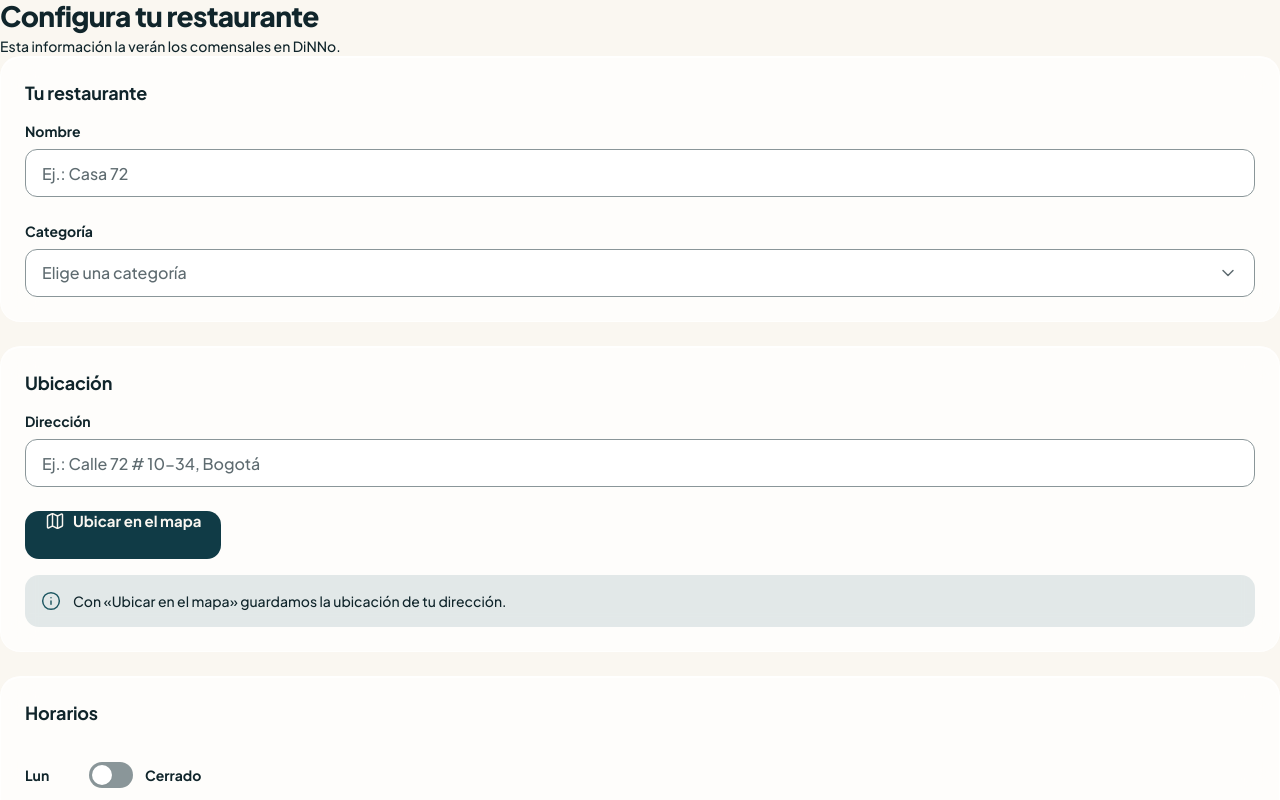
Scenario: OnboardingPage · registro del restaurante › saves: sends exactly the contract, shows "Guardando…", toasts and goes to the tables
Type "  Casa 72 " into the field labelled "Nombre" at [640, 173], box [25,149,1255,197]
Click the dropdown labelled "categoría" at [114, 272], box [25,249,1255,297]
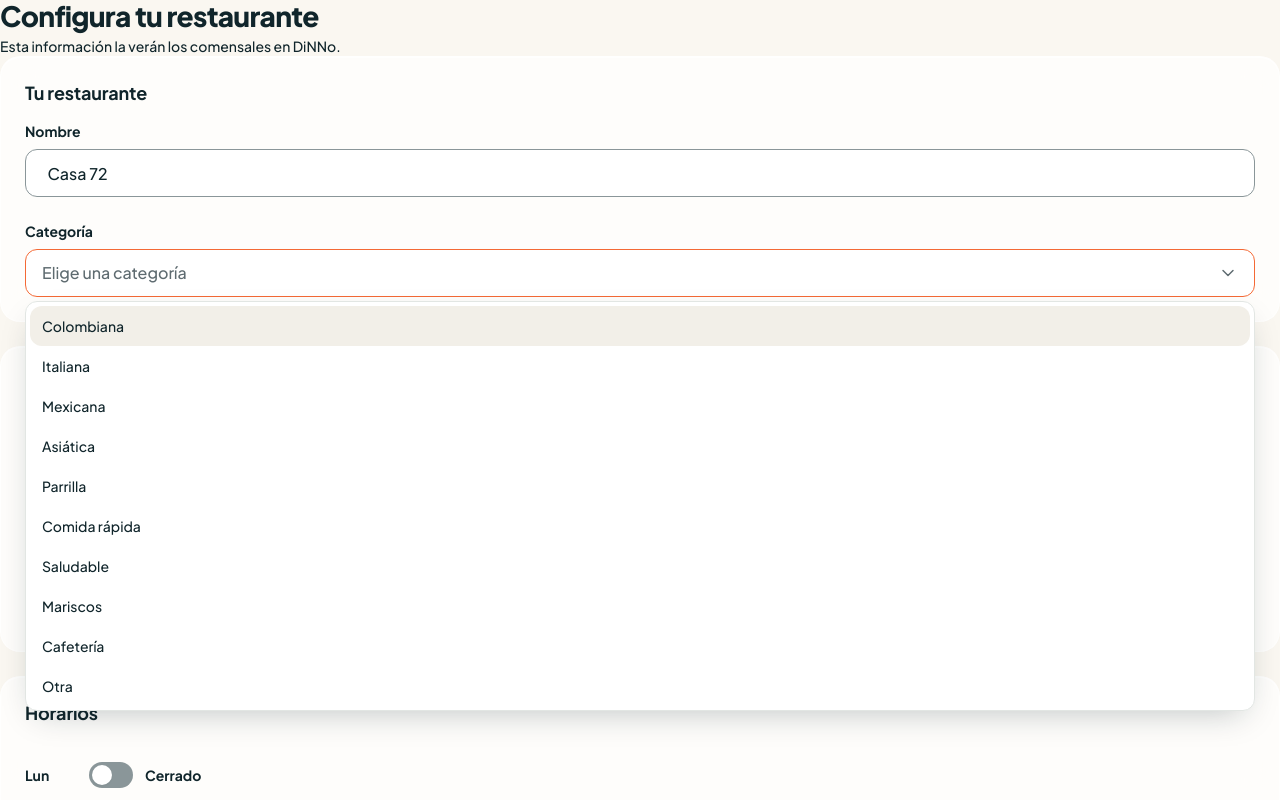
Click the option "Colombiana" at [83, 326], box [30,306,1250,346]
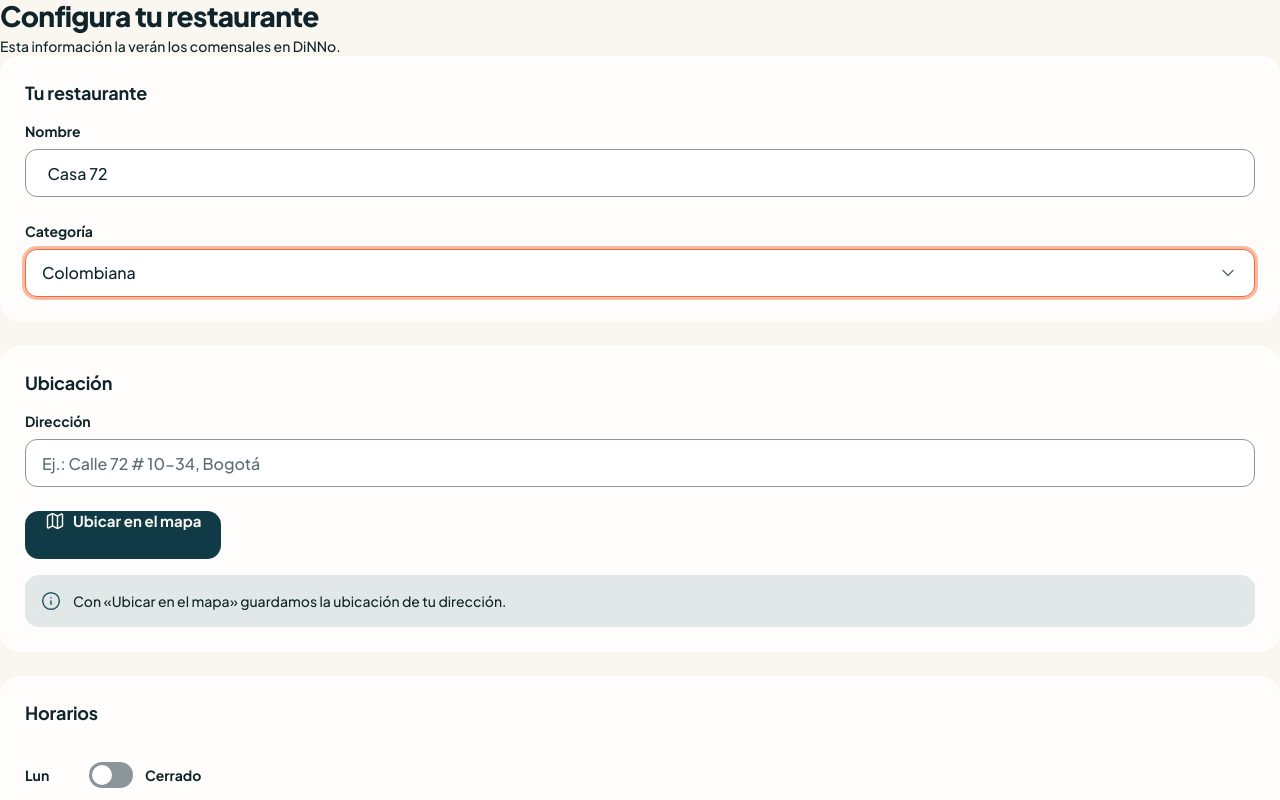
Type "Calle 72 # 10-34, Bogotá" into the field labelled "Dirección" at [640, 463], box [25,439,1255,487]
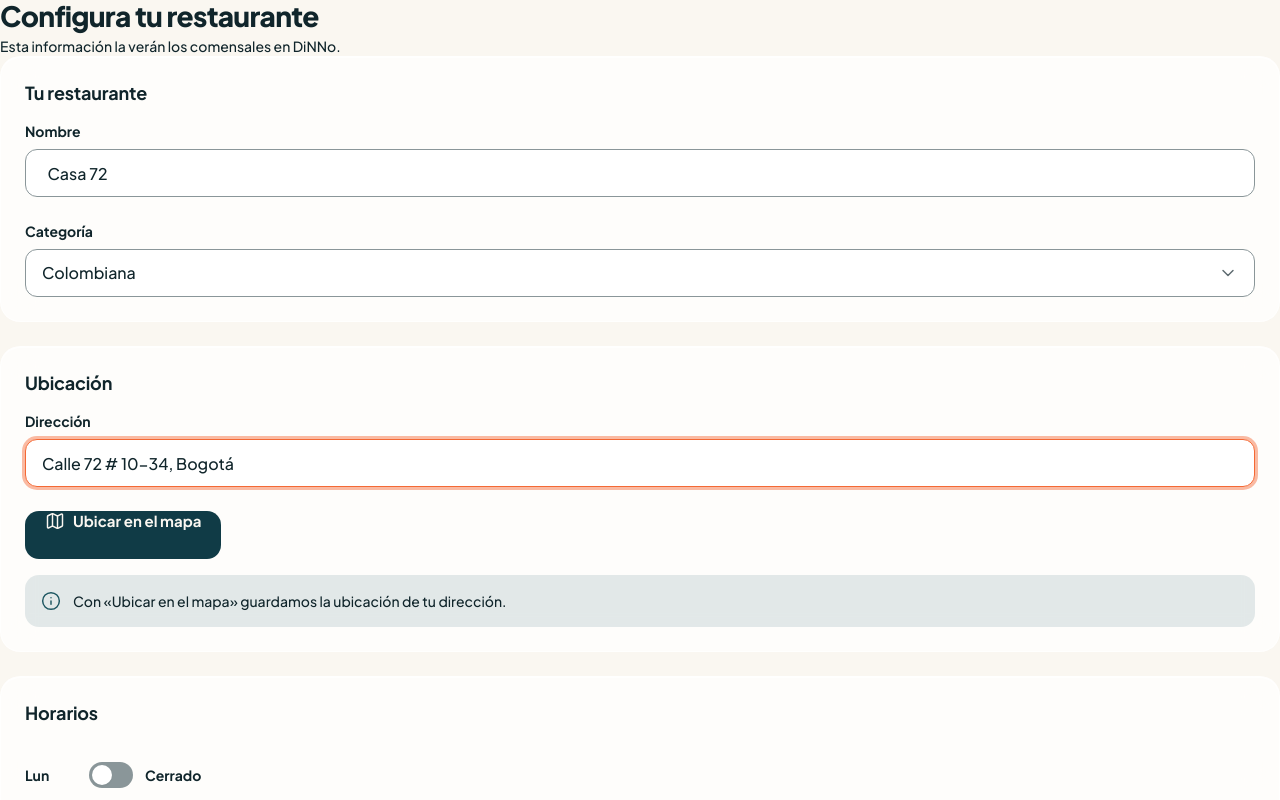
Click the switch named "Lunes" at [145, 775], box [89,753,201,797]
(page scrolled)
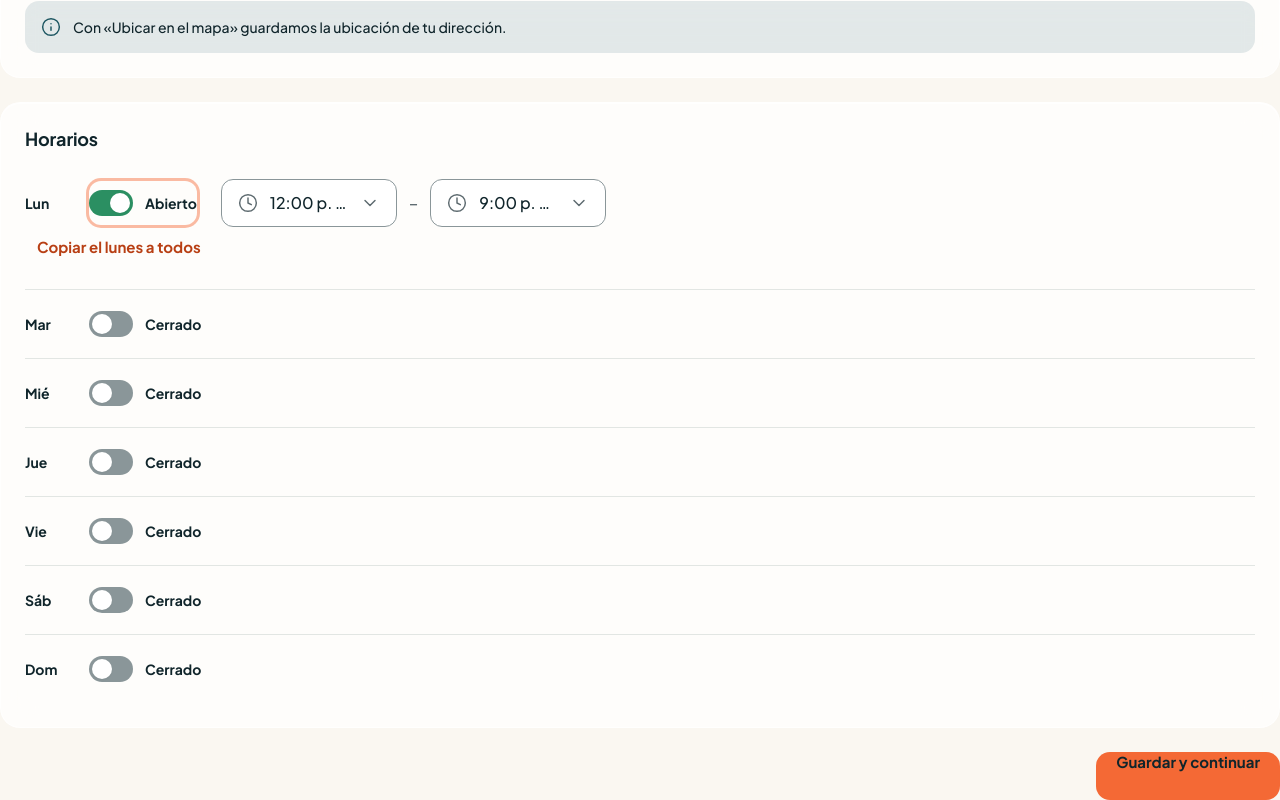
Click the button "Guardar y continuar" at [1188, 776], box [1096,752,1279,799]
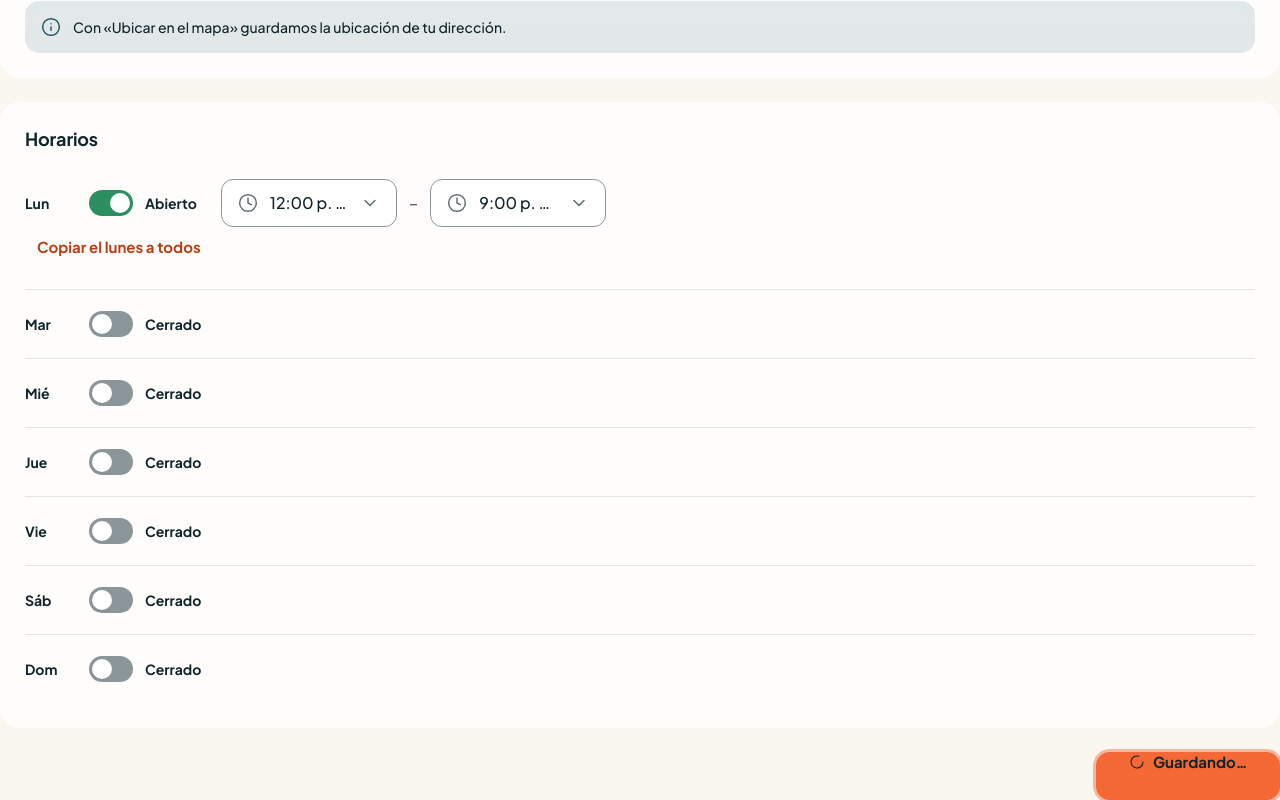
Check: the button "Guardando…" is shown
Click the button "Guardando…" at [1188, 776], box [1096,752,1279,799]
(page scrolled)
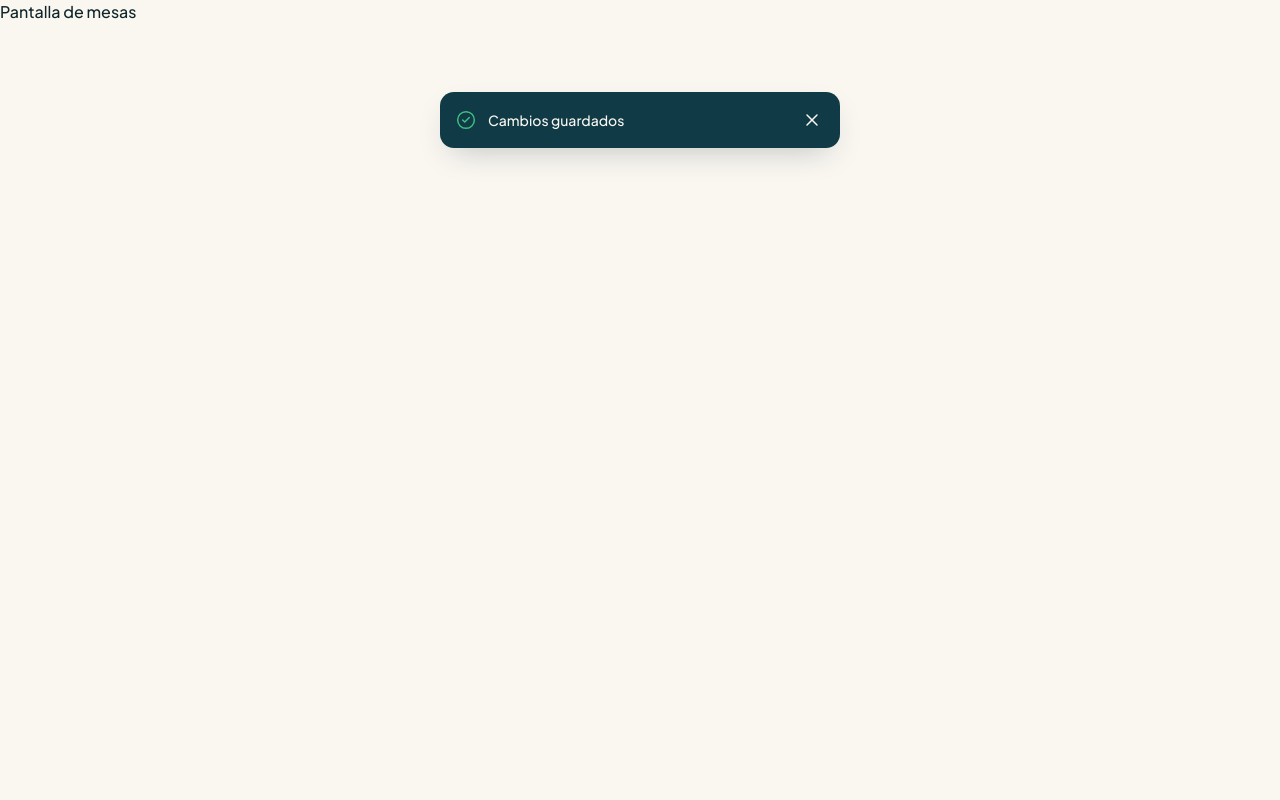
Check: the text "Pantalla de mesas" is shown, box [0,1,136,22]
Check: the text "Cambios guardados" is shown, box [488,111,624,129]
